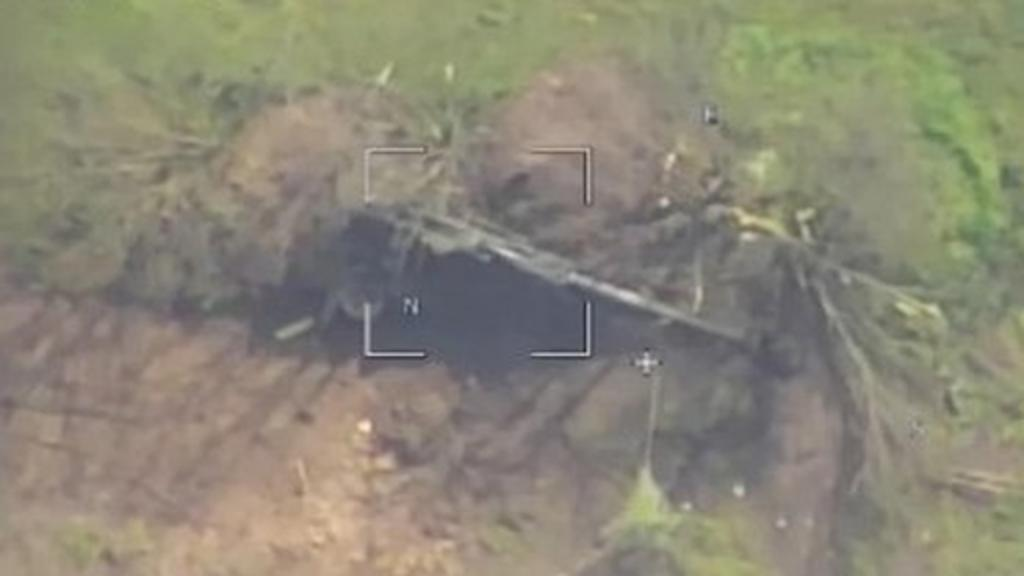ART: (334, 176, 758, 356)
